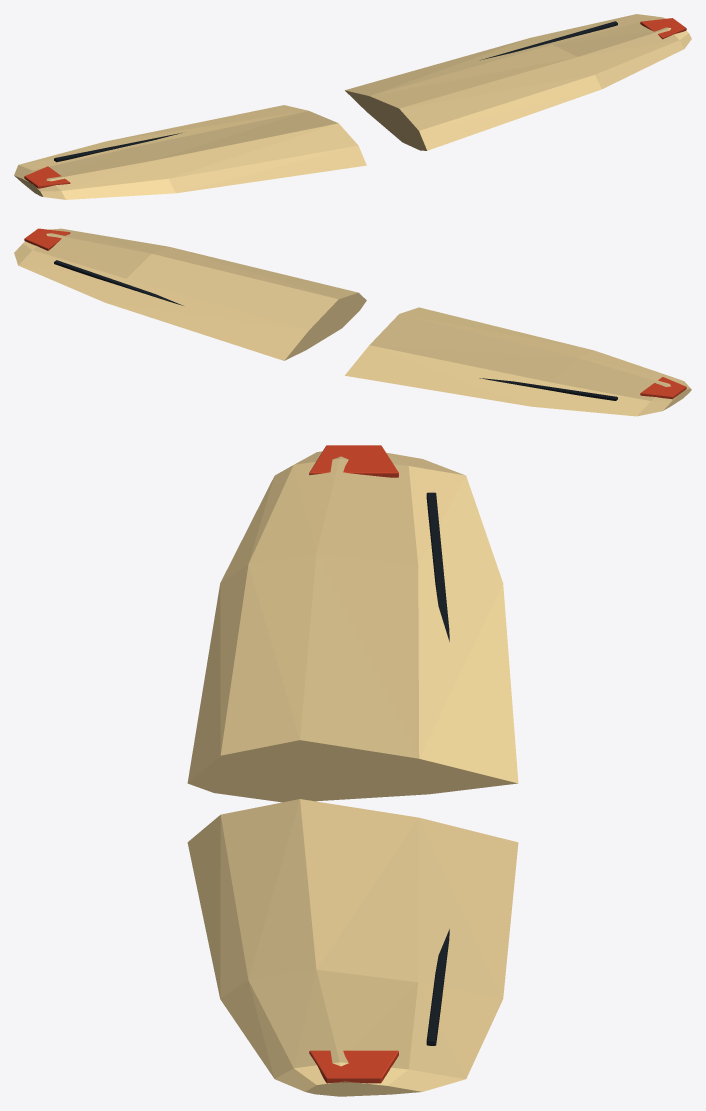
The model's file is EA_UtilityWing.fbx.
3 renders of one model, top to bottom at view 1: azimuth 30°, elevation 25°; view 2: azimuth 150°, elevation 25°; view 3: azimuth 270°, elevation 25°, orthographic. The views are drawn at different scales.
Visible parts, largest first — view 1: EA_UtilityWing; view 2: EA_UtilityWing; view 3: EA_UtilityWing.
Boxes of the visible parts, bbox=[...] form: EA_UtilityWing: bbox=[14, 14, 691, 199]; EA_UtilityWing: bbox=[14, 228, 691, 416]; EA_UtilityWing: bbox=[187, 445, 518, 1096].
Size of the model in its own units: 3.44 by 0.1825 by 0.76.
3 materials, 3 textured.
